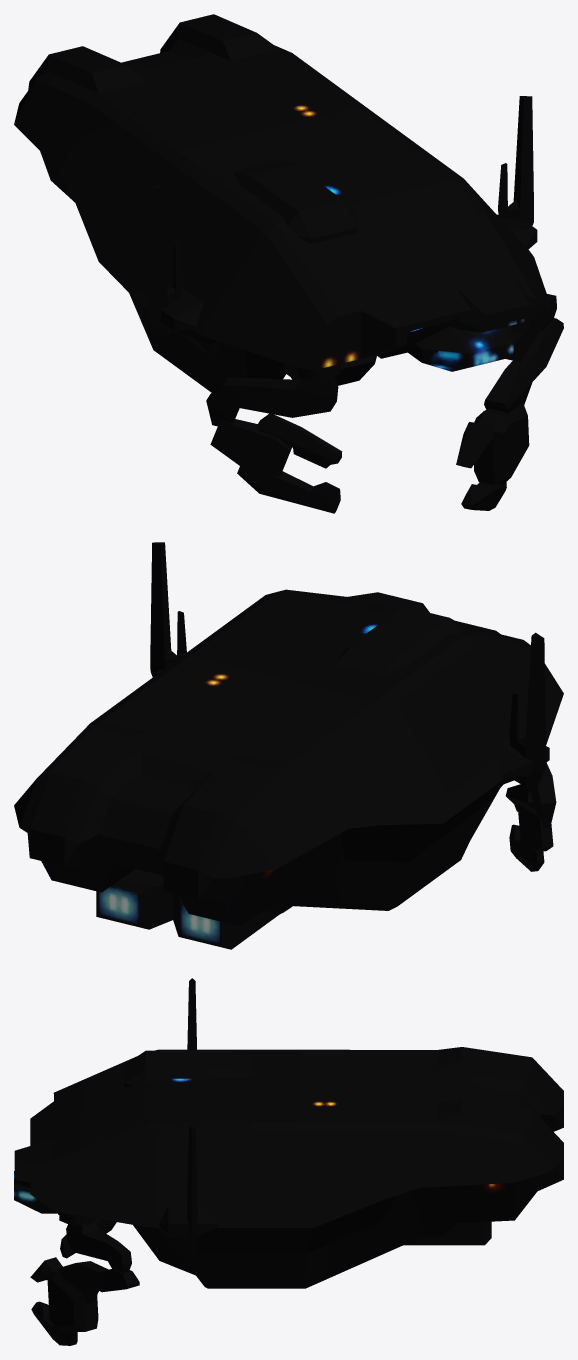
File: hgn_su_rcol_01_t1.glb
The picture shows the model from 3 angles, top to bottom: view 1: azimuth 30°, elevation 25°; view 2: azimuth 150°, elevation 25°; view 3: azimuth 270°, elevation 25°; orthographic projection. The views are drawn at different scales.
Parts seen in each view (by area): view 1: hgn_resource_collector_LOD0, left_arm_part_03_LOD0, right_arm_part_03_LOD0, right_arm_part_02_LOD0, left_arm_part_02_LOD0; view 2: hgn_resource_collector_LOD0, right_arm_part_03_LOD0, right_arm_part_02_LOD0; view 3: hgn_resource_collector_LOD0, left_arm_part_03_LOD0, left_arm_part_02_LOD0.
Part boxes in pixels (x1=…): hgn_resource_collector_LOD0: x1=14, y1=14, x2=550, y2=392; left_arm_part_03_LOD0: x1=456, y1=318, x2=563, y2=510; right_arm_part_03_LOD0: x1=210, y1=413, x2=342, y2=513; right_arm_part_02_LOD0: x1=206, y1=376, x2=338, y2=426; left_arm_part_02_LOD0: x1=505, y1=294, x2=556, y2=361; hgn_resource_collector_LOD0: x1=14, y1=542, x2=563, y2=949; right_arm_part_03_LOD0: x1=505, y1=784, x2=553, y2=871; right_arm_part_02_LOD0: x1=525, y1=763, x2=556, y2=827; hgn_resource_collector_LOD0: x1=14, y1=978, x2=563, y2=1288; left_arm_part_03_LOD0: x1=30, y1=1257, x2=139, y2=1345; left_arm_part_02_LOD0: x1=66, y1=1221, x2=131, y2=1272.
Size of the model in its own units: 0.2854 by 0.2286 by 0.4324.
1 material, 1 textured.
